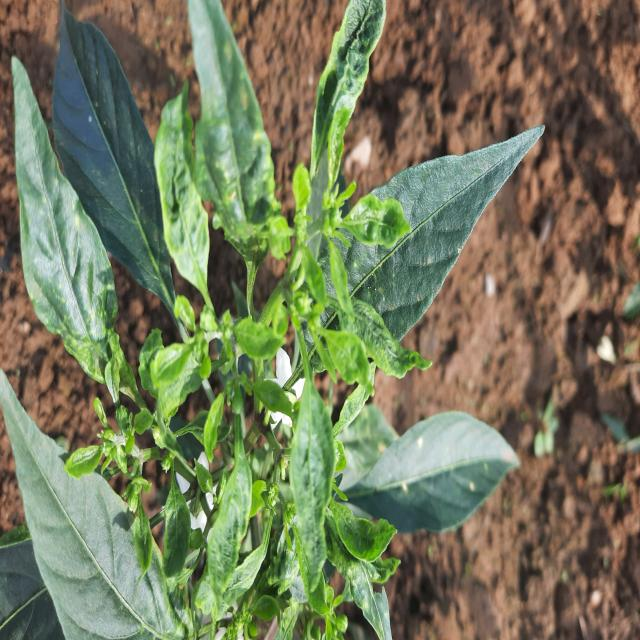thrips: (308, 0, 394, 205), (290, 358, 336, 598), (336, 182, 415, 256), (340, 498, 402, 572), (160, 468, 192, 580)
